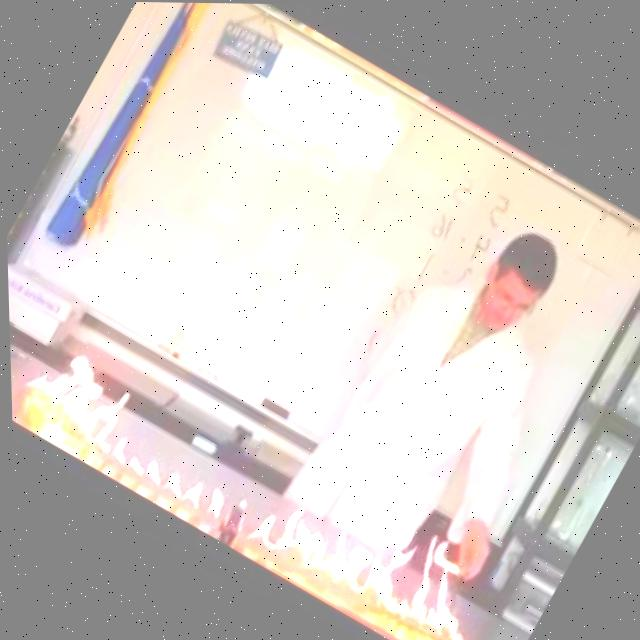Fire: (237, 452, 503, 640), (8, 327, 143, 454), (102, 413, 240, 525)
